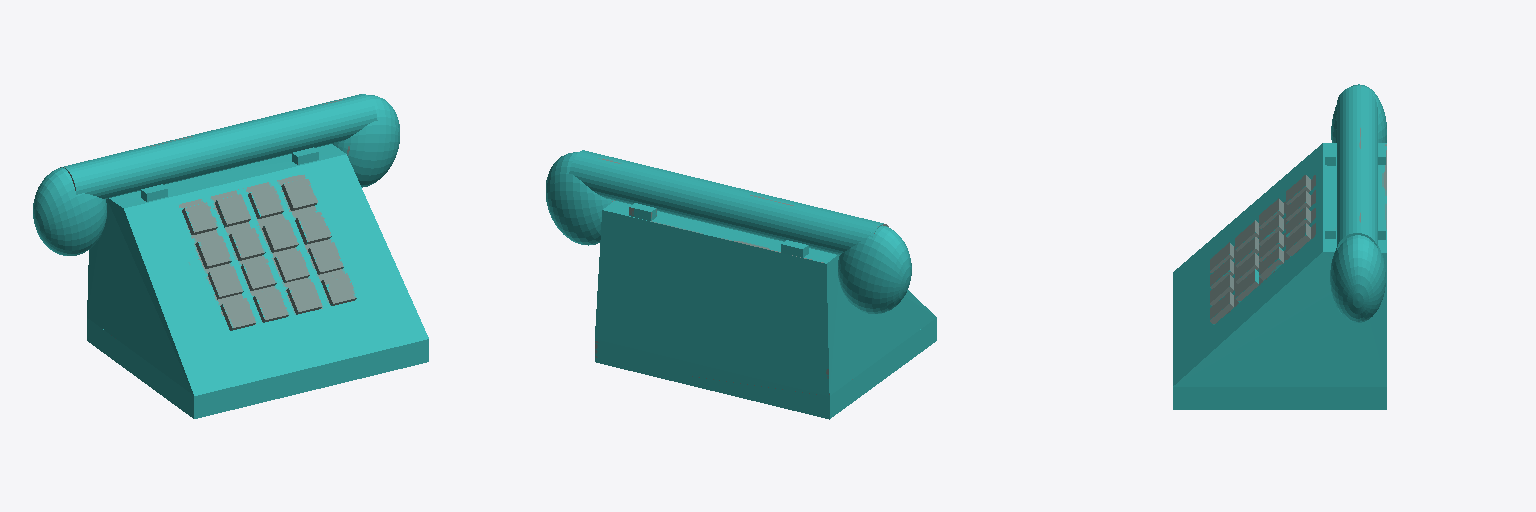
3 views of the same model, side by side, from view 1: azimuth 30°, elevation 25°; view 2: azimuth 150°, elevation 25°; view 3: azimuth 270°, elevation 25° (orthographic).
Parts seen in each view (by area): view 1: Cubo.001; view 2: Cubo.001; view 3: Cubo.001.
Part boxes in pixels (left/top/right/bottom): Cubo.001: left=33, top=94, right=428, bottom=418; Cubo.001: left=546, top=150, right=936, bottom=419; Cubo.001: left=1173, top=84, right=1386, bottom=409.
Size of the model in its own units: 2.58 by 1.31 by 1.33.
1 materials, 1 textured.